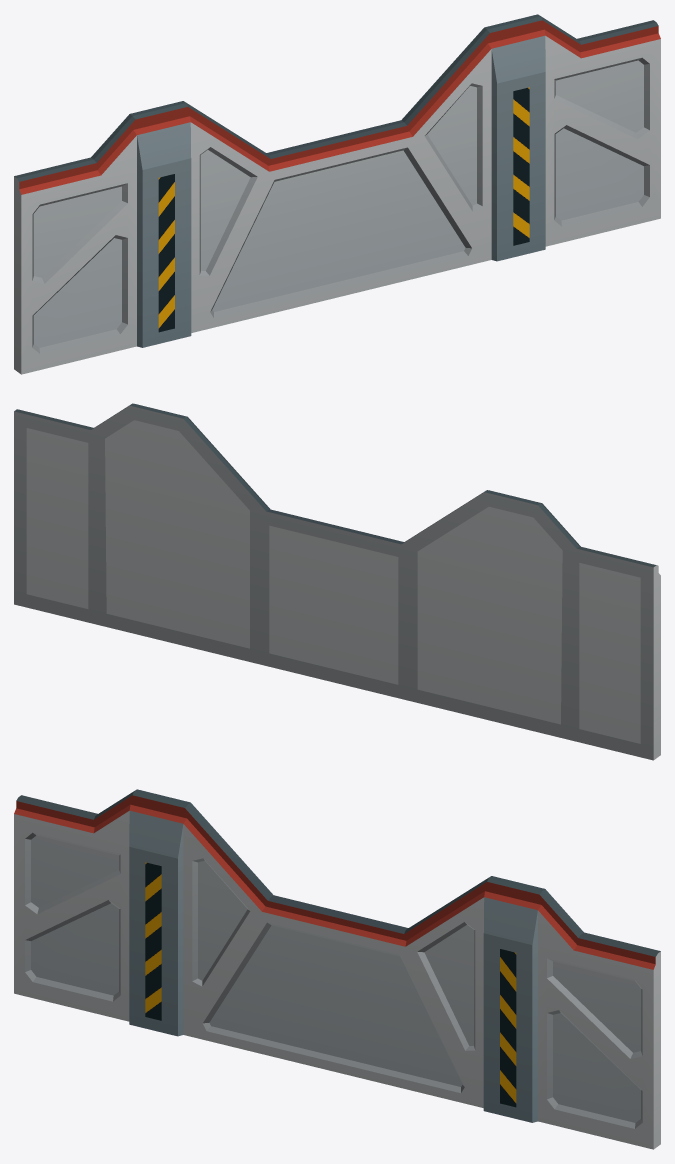
Rendered from Door_panel_016.fbx.
3 renders of one model, top to bottom at view 1: azimuth 30°, elevation 25°; view 2: azimuth 150°, elevation 25°; view 3: azimuth 330°, elevation 25°, orthographic.
Visible parts, largest first — view 1: Door_panel_016; view 2: Door_panel_016; view 3: Door_panel_016.
Boxes of the visible parts, bbox=[...] form: Door_panel_016: bbox=[14, 14, 660, 374]; Door_panel_016: bbox=[14, 403, 660, 760]; Door_panel_016: bbox=[14, 789, 660, 1149].
Size of the model in its own units: 500 by 14 by 170.
